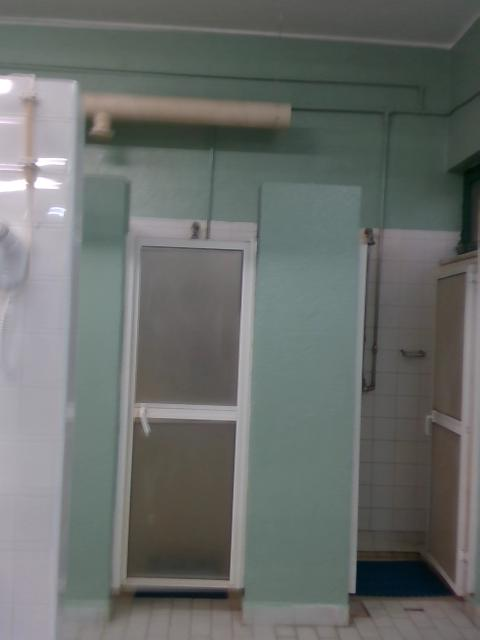door: (115, 237, 258, 587), (420, 261, 476, 599)
